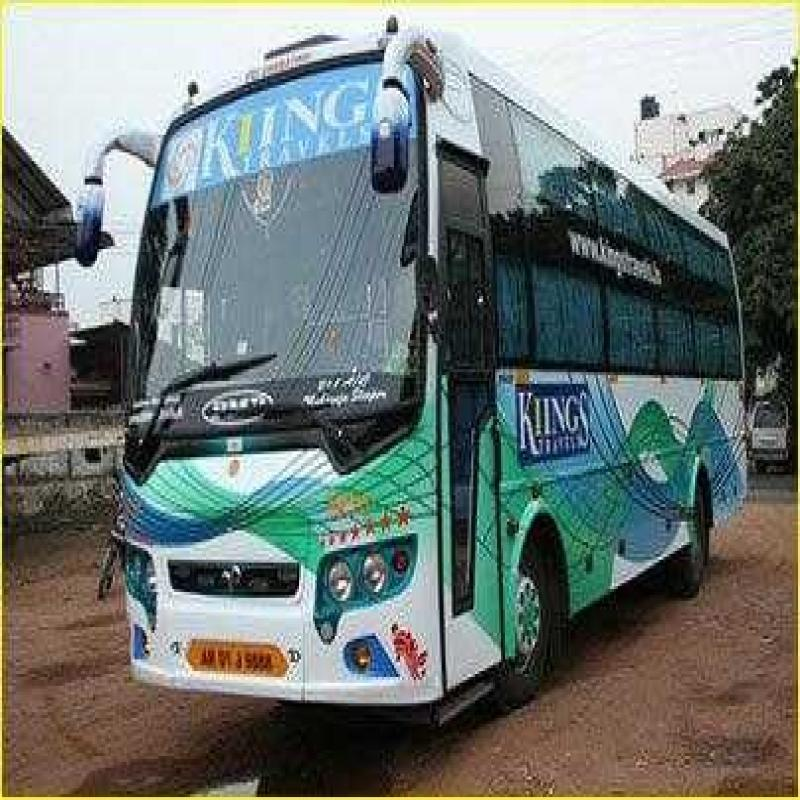bus: (101, 56, 768, 728)
